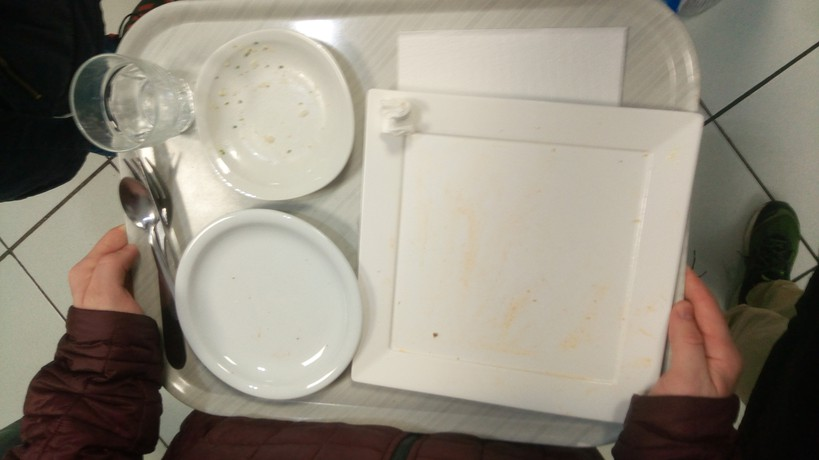cup: (60, 30, 191, 158)
cutlery: (117, 153, 191, 363)
trash: (375, 24, 638, 151)
